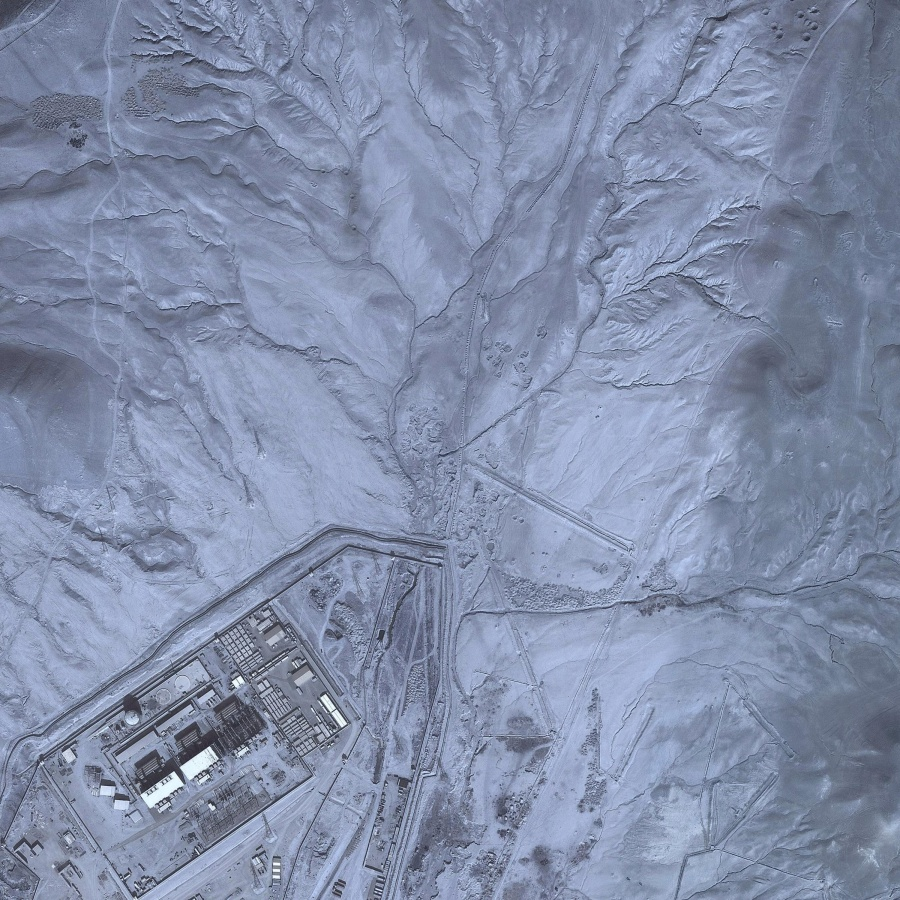PowerPlant: (98, 628, 347, 812)
